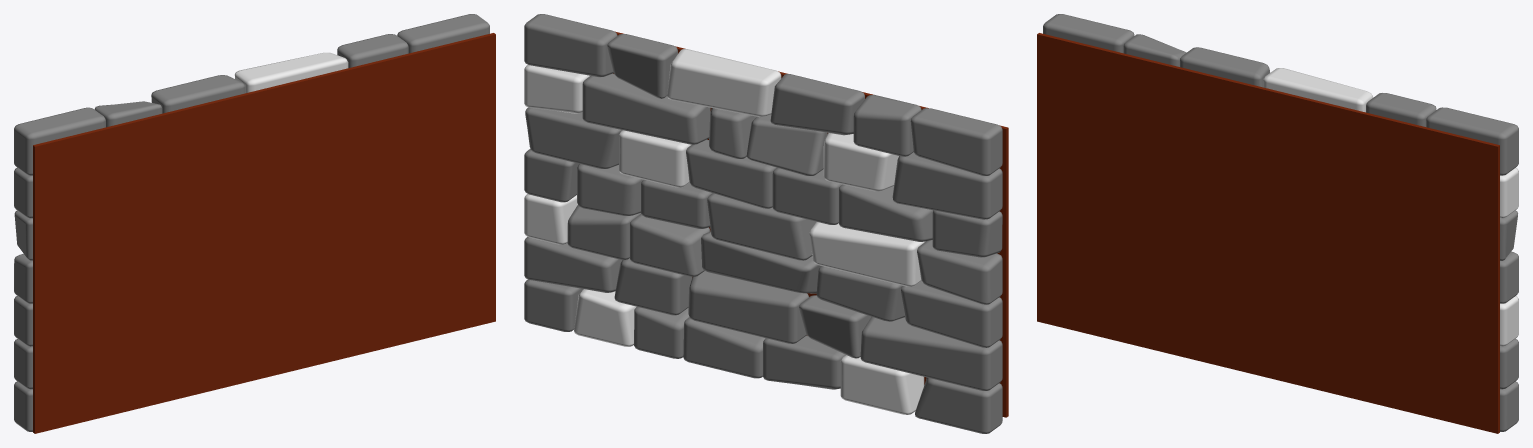
The model's file is tasduvar.fbx.
3 renders of one model, left to right at view 1: azimuth 30°, elevation 25°; view 2: azimuth 150°, elevation 25°; view 3: azimuth 330°, elevation 25°, orthographic.
Visible parts, largest first — view 1: Plane, duvar; view 2: duvar, Plane; view 3: Plane, duvar.
Boxes of the visible parts, <box> form: Plane: <box>33,33,495,433</box>; duvar: <box>14,14,489,431</box>; duvar: <box>524,14,1002,433</box>; Plane: <box>613,31,1008,417</box>; Plane: <box>1037,33,1499,433</box>; duvar: <box>1043,14,1518,431</box>.
Bounding box in the file's own units: 1300 × 800 × 116.
